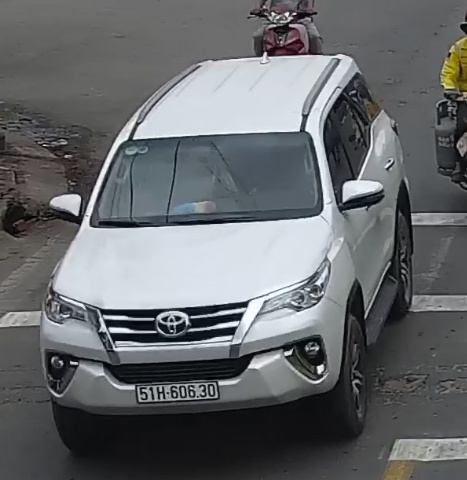vehicle plate: (131, 375, 226, 411)
